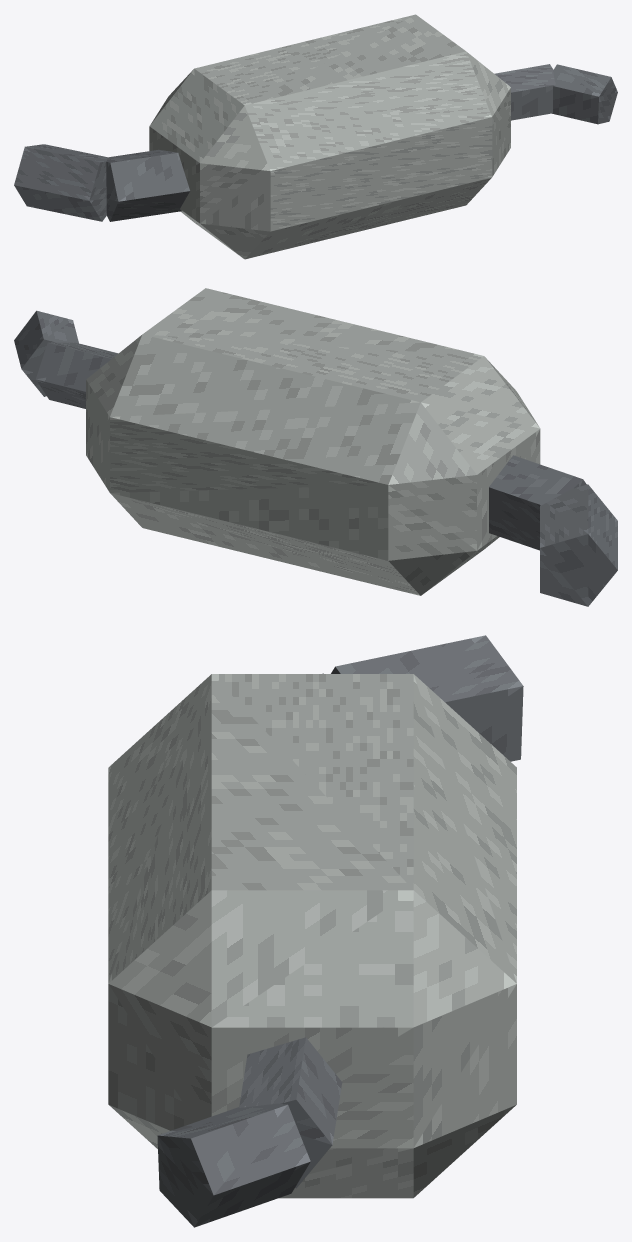
The model's file is muffler.glb.
3 views of the same model, one above another, from view 1: azimuth 30°, elevation 25°; view 2: azimuth 150°, elevation 25°; view 3: azimuth 270°, elevation 25° (orthographic). The views are drawn at different scales.
Visible parts, largest first — view 1: block_oval muffler, block_bent exhaust inlet 1, block_bent exhaust inlet 0, block_outlet tube 1, block_outlet tube 0; view 2: block_oval muffler, block_bent exhaust inlet 1, block_bent exhaust inlet 0, block_outlet tube 0, block_outlet tube 1; view 3: block_oval muffler, block_outlet tube 1, block_bent exhaust inlet 1, block_outlet tube 0.
Boxes of the visible parts, x1,y1,x2,y2 form: block_oval muffler: (149,14,510,259); block_bent exhaust inlet 1: (14,144,107,221); block_bent exhaust inlet 0: (106,149,189,221); block_outlet tube 1: (552,64,617,124); block_outlet tube 0: (494,64,555,120); block_oval muffler: (86,288,540,595); block_bent exhaust inlet 1: (540,484,617,606); block_bent exhaust inlet 0: (489,455,586,550); block_outlet tube 0: (36,342,118,408); block_outlet tube 1: (14,310,78,396); block_oval muffler: (108,674,516,1198); block_outlet tube 1: (157,1103,310,1227); block_bent exhaust inlet 1: (331,635,523,761); block_outlet tube 0: (239,1037,342,1188).
Size of the model in its own units: 0.2885 by 0.0783 by 0.0956.
Materials: 1 (1 with a texture image).
